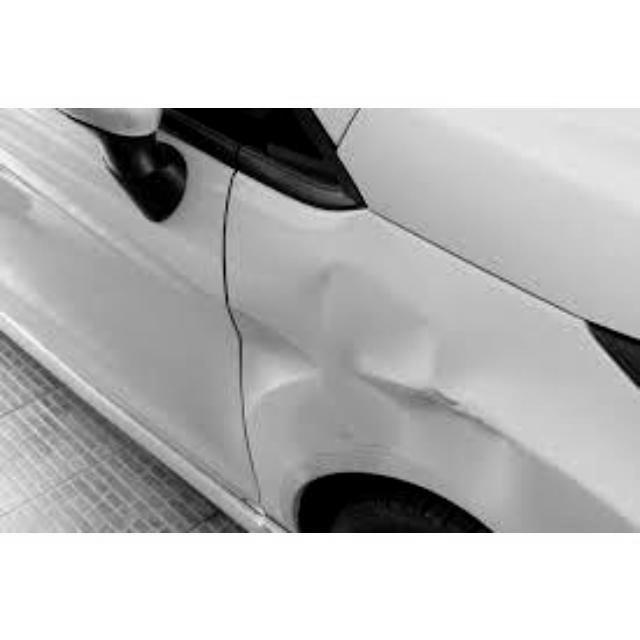fender-dent: (221, 270, 593, 530)
